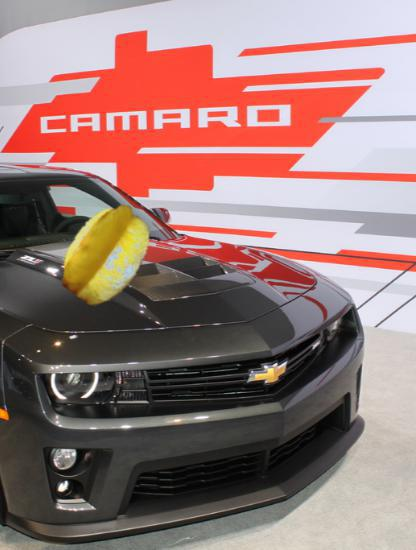Carambula: (55, 202, 160, 307)
